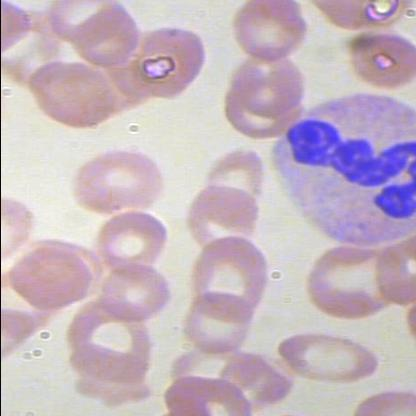RBC: (116, 27, 214, 107), (32, 53, 130, 133), (187, 233, 281, 308), (72, 150, 164, 222), (272, 327, 384, 386), (226, 57, 321, 121), (186, 184, 274, 250), (226, 1, 317, 64), (11, 242, 94, 310), (184, 143, 268, 210), (94, 258, 176, 326), (99, 212, 175, 272), (161, 369, 252, 415)
WBC: (266, 88, 415, 252)
